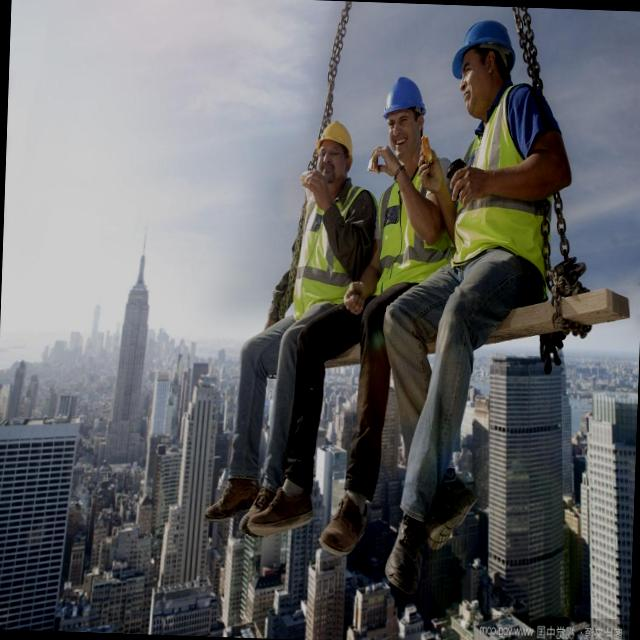helmet: (450, 18, 516, 69), (381, 77, 426, 123), (314, 118, 354, 152)
vest: (450, 112, 562, 260), (295, 188, 358, 319)
